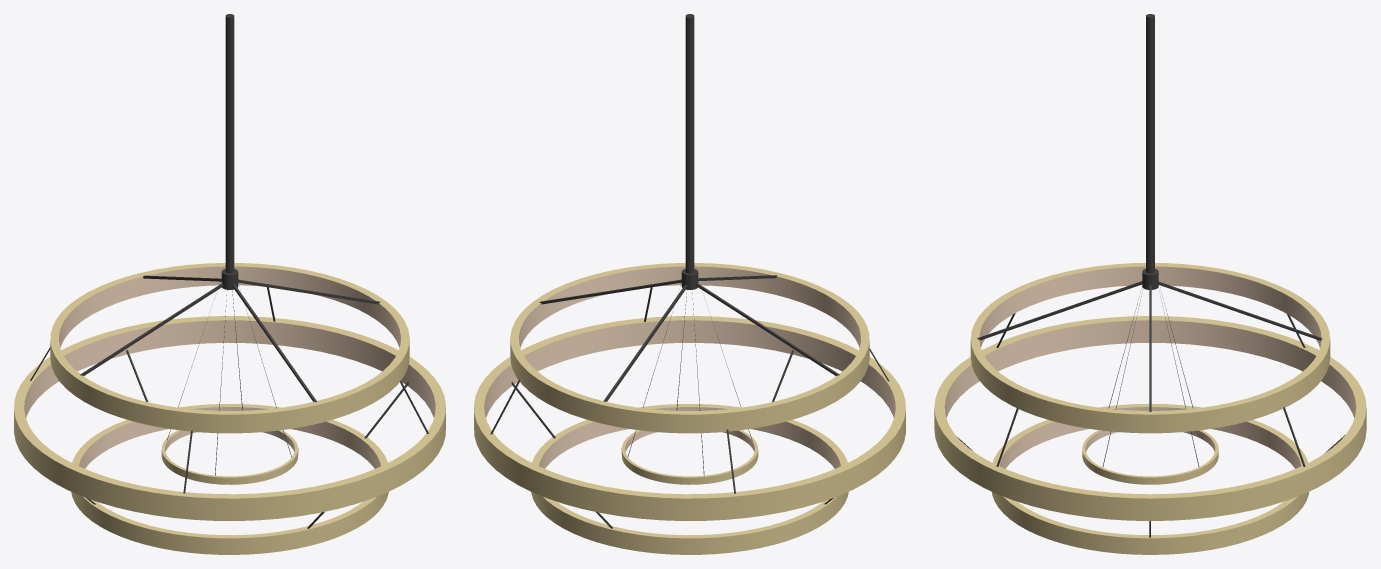
File: ceiling light.fbx
3 renders of one model, left to right at view 1: azimuth 30°, elevation 25°; view 2: azimuth 150°, elevation 25°; view 3: azimuth 270°, elevation 25°, orthographic.
Visible parts, largest first — view 1: Cylinder; view 2: Cylinder; view 3: Cylinder.
Boxes of the visible parts, left/top/right/bottom form: Cylinder: left=14, top=14, right=445, bottom=554; Cylinder: left=474, top=14, right=905, bottom=554; Cylinder: left=934, top=14, right=1366, bottom=554.
Size of the model in its own units: 296 by 356 by 296.
